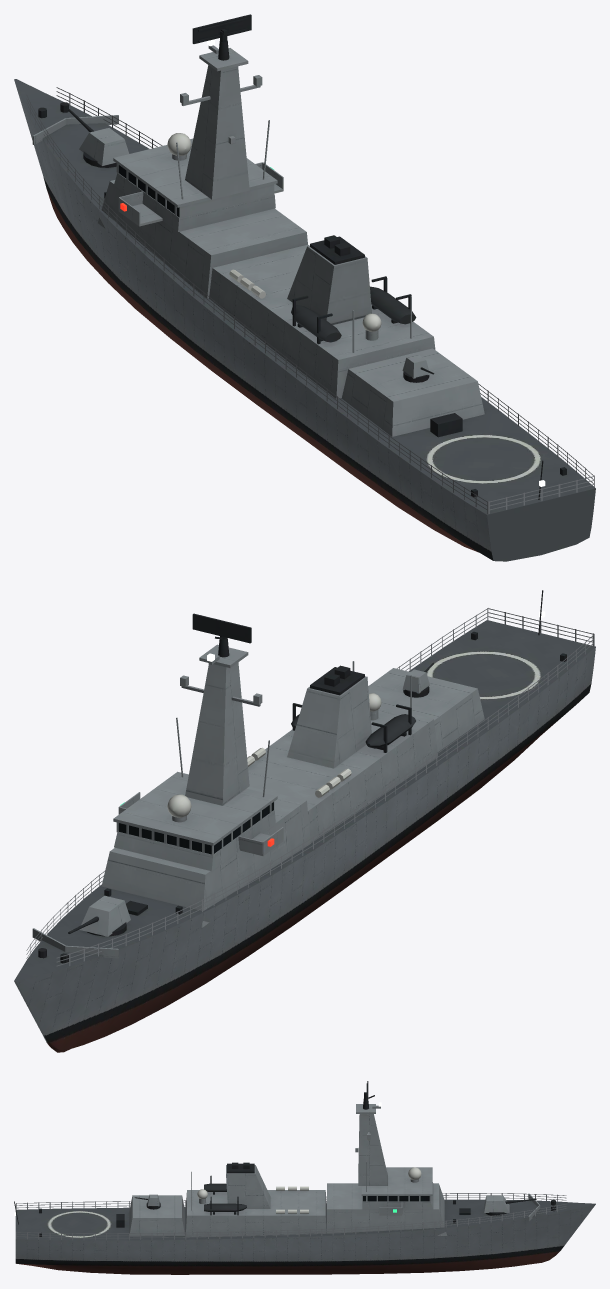
The model's file is navy_picket_ship.glb.
The picture shows the model from 3 angles, top to bottom: view 1: azimuth 30°, elevation 25°; view 2: azimuth 150°, elevation 25°; view 3: azimuth 270°, elevation 25°; orthographic projection. The views are drawn at different scales.
Parts seen in each view (by area): view 1: lod0, detail_lod0, rails_lod0, antenna; view 2: lod0, detail_lod0, rails_lod0, antenna; view 3: lod0, detail_lod0, rails_lod0.
Boxes of the visible parts, <box> form: lod0: <box>14,65,595,561</box>; detail_lod0: <box>32,39,566,499</box>; rails_lod0: <box>26,87,594,514</box>; antenna: <box>192,14,251,43</box>; lod0: <box>14,620,595,1052</box>; detail_lod0: <box>32,590,566,963</box>; rails_lod0: <box>26,608,594,966</box>; antenna: <box>192,613,251,643</box>; lod0: <box>15,1114,595,1274</box>; detail_lod0: <box>14,1099,555,1236</box>; rails_lod0: <box>15,1193,566,1240</box>.
Size of what is drawn, in the model's own units: 13.5 by 27.79 by 82.25.
5 materials, 2 textured.
